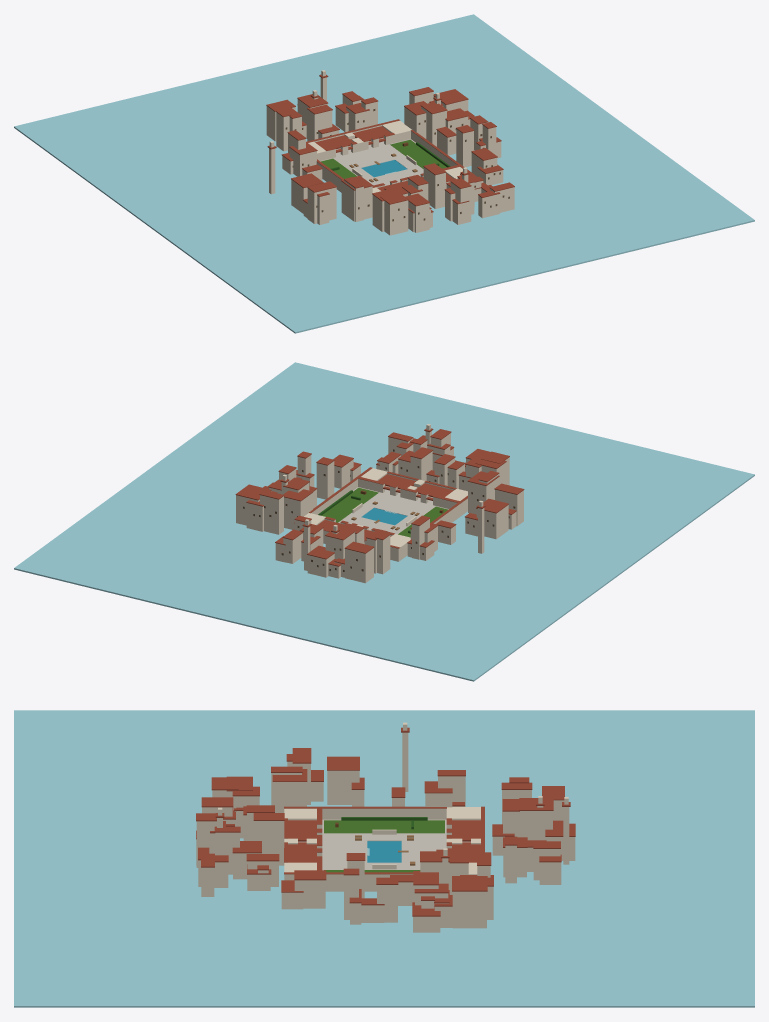
The model's file is fy_pool_day2.glb.
3 views of the same model, one above another, from view 1: azimuth 30°, elevation 25°; view 2: azimuth 150°, elevation 25°; view 3: azimuth 270°, elevation 25° (orthographic). The views are drawn at different scales.
Parts seen in each view (by area): view 1: skyline, fy_pool_day2; view 2: skyline, fy_pool_day2; view 3: skyline, fy_pool_day2.
Boxes of the visible parts, box(x1,y1,x2,y2) form: skyline: box(14, 14, 754, 333); fy_pool_day2: box(306, 119, 474, 192); skyline: box(14, 362, 754, 681); fy_pool_day2: box(294, 467, 467, 561); skyline: box(14, 710, 754, 1007); fy_pool_day2: box(284, 806, 484, 891).
Size of the model in its own units: 12944 by 1434 by 13712.
